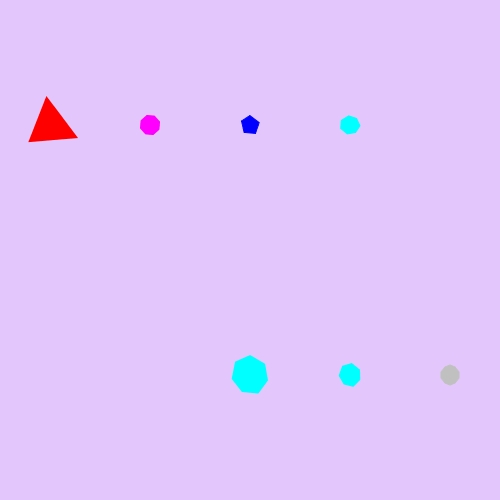decagon: (435, 361, 465, 389)
heptagon: (227, 353, 273, 397), (334, 360, 366, 390), (336, 111, 365, 139)
octagon: (135, 110, 165, 140)
pentagon: (236, 111, 264, 139)
triangle: (25, 98, 76, 152)
